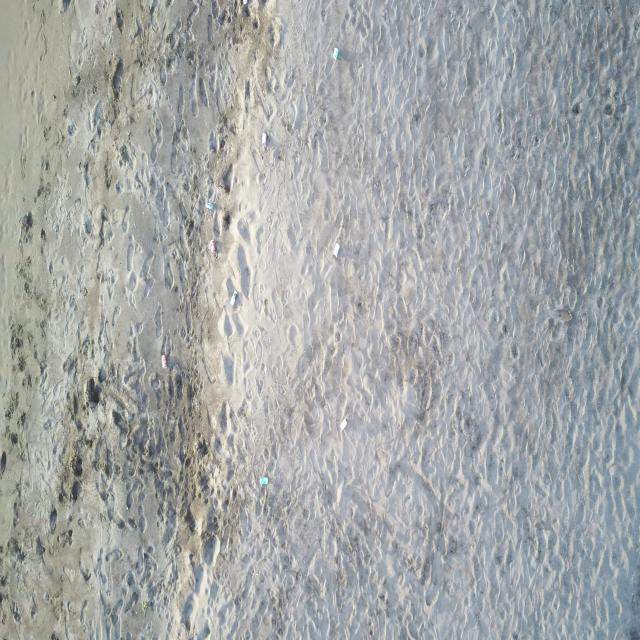tin-and-aluminum-cans: (332, 241, 341, 258), (338, 418, 348, 432), (209, 238, 217, 254), (230, 290, 237, 306), (261, 131, 267, 149), (161, 354, 167, 370), (332, 47, 339, 60), (260, 475, 268, 486), (206, 202, 213, 210), (242, 0, 248, 6)
